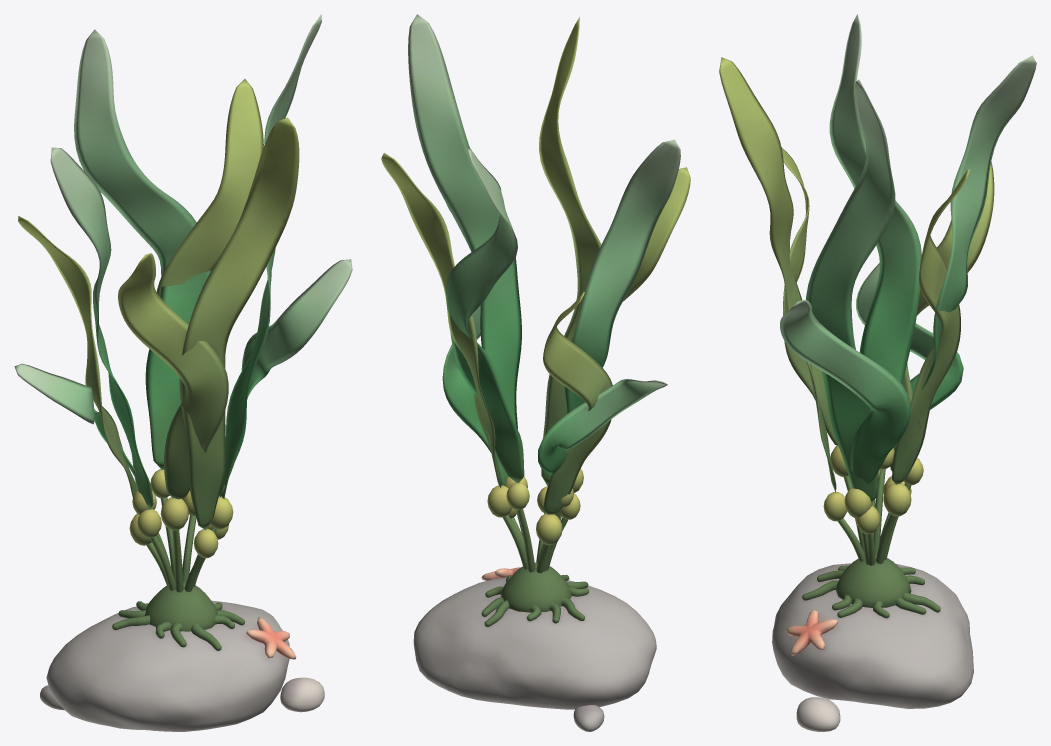
Rendered from seaweed_detail.glb.
3 renders of one model, left to right at view 1: azimuth 30°, elevation 25°; view 2: azimuth 150°, elevation 25°; view 3: azimuth 270°, elevation 25°, orthographic. The views are drawn at different scales.
Parts seen in each view (by area): view 1: seaweed_detail; view 2: seaweed_detail; view 3: seaweed_detail.
Part boxes in pixels (bbox=[...]): seaweed_detail: bbox=[14, 14, 352, 731]; seaweed_detail: bbox=[381, 14, 690, 731]; seaweed_detail: bbox=[719, 14, 1036, 731].
Size of the model in its own units: 0.5407 by 1.2 by 0.5175.
Materials: 1 (1 with a texture image).
